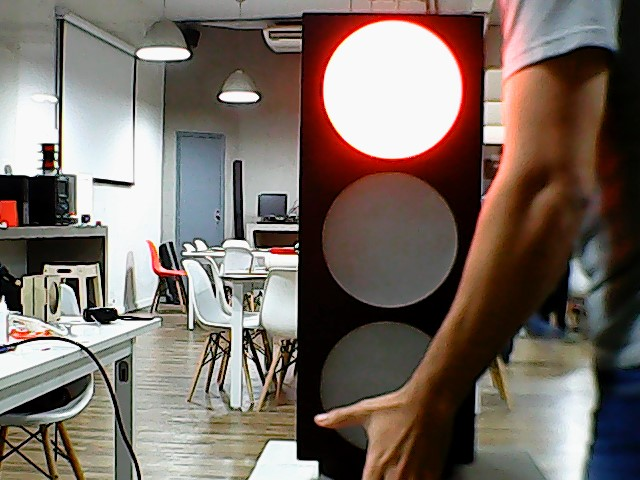vermelho: (300, 11, 477, 478)
